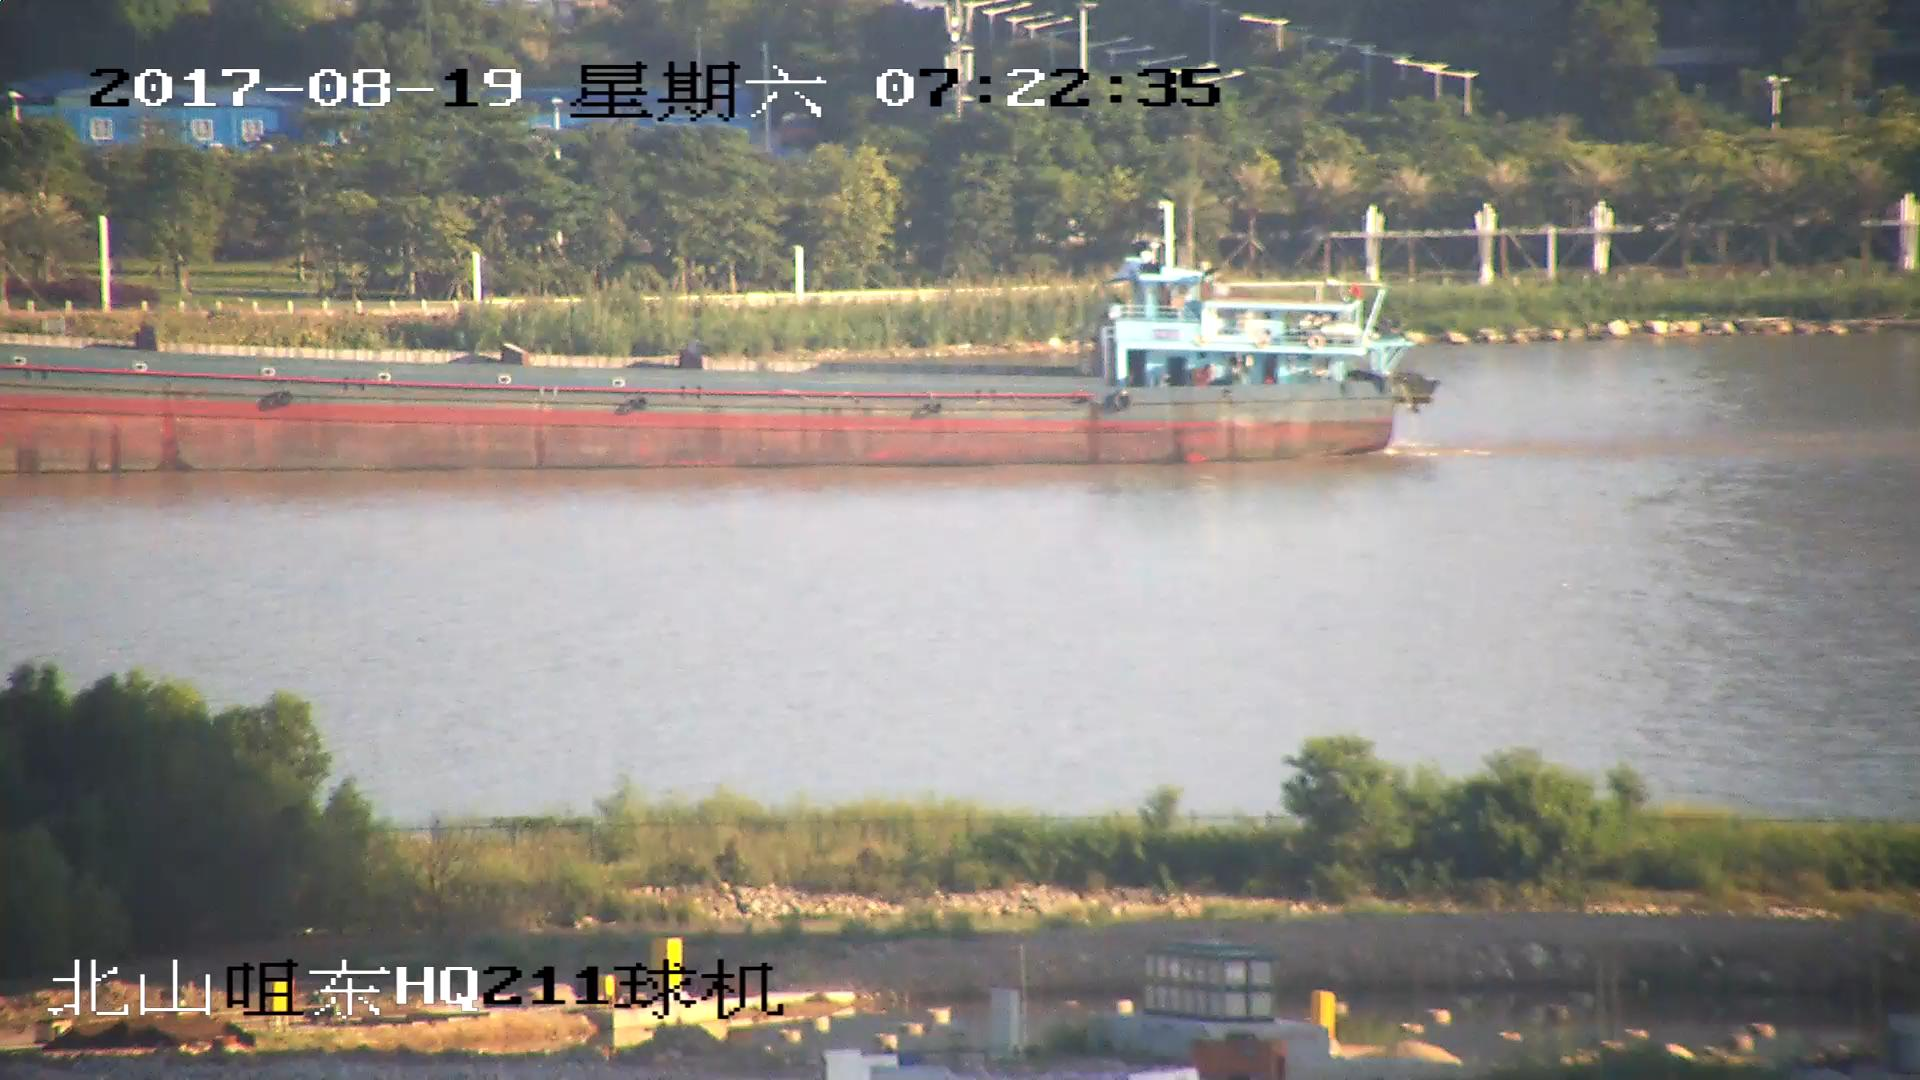bulk cargo carrier: (1, 247, 1427, 471)
